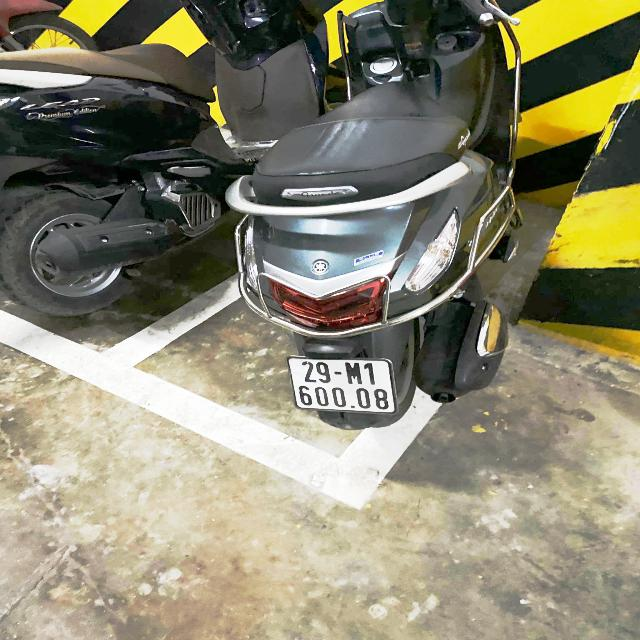license_plate: (281, 355, 401, 418)
